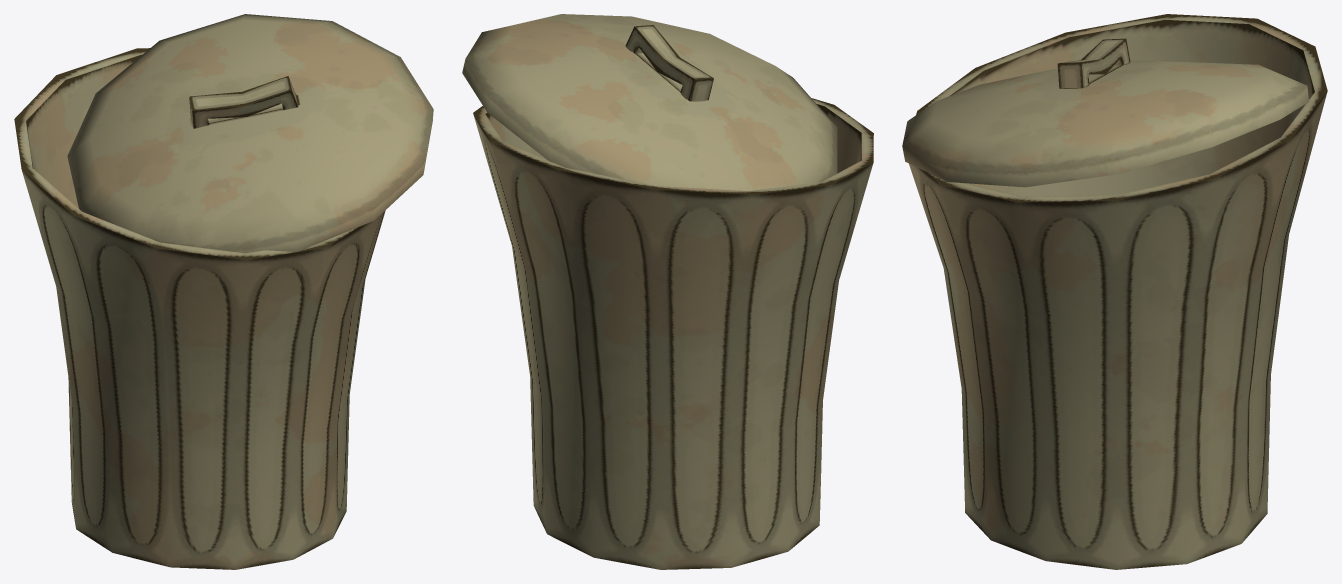
File: SM_trash_can_04.glb
The picture shows the model from 3 angles, left to right: view 1: azimuth 30°, elevation 25°; view 2: azimuth 150°, elevation 25°; view 3: azimuth 270°, elevation 25°; orthographic projection. The views are drawn at different scales.
Visible parts, largest first — view 1: SM_trash_can_04; view 2: SM_trash_can_04; view 3: SM_trash_can_04.
Boxes of the visible parts, x1,y1,x2,y2 form: SM_trash_can_04: (14, 14, 433, 569); SM_trash_can_04: (462, 14, 873, 569); SM_trash_can_04: (902, 14, 1327, 569).
Bounding box in the file's own units: 0.9339 × 1.08 × 0.8766.
Materials: 1 (1 with a texture image).
